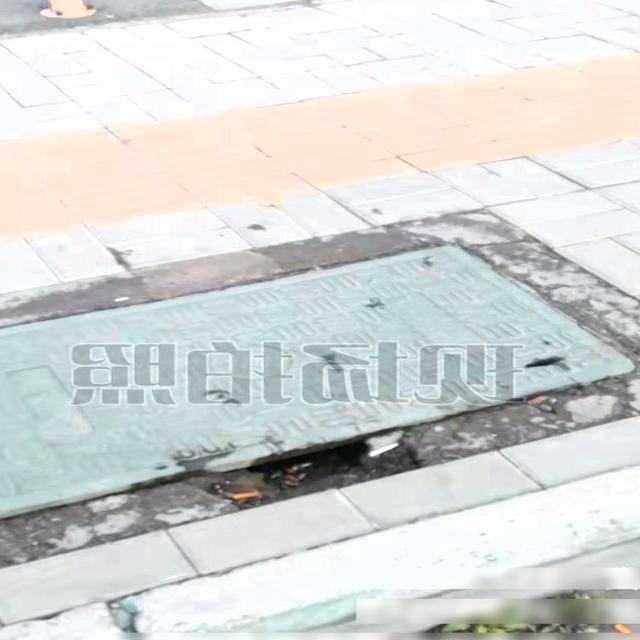circle: (0, 209, 640, 551)
